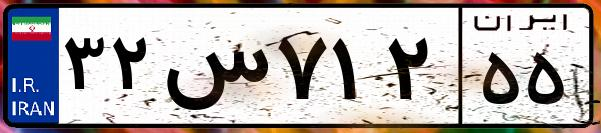1: (330, 28, 385, 110)
2: (385, 28, 445, 110), (110, 28, 158, 98)
3: (57, 26, 110, 100)
5: (475, 38, 525, 113), (525, 38, 570, 115)
7: (270, 28, 330, 110)
س: (158, 20, 270, 120)
